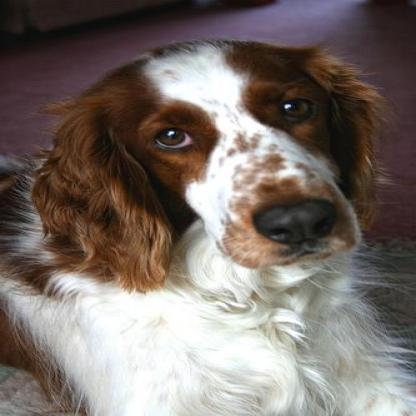Welsh_springer_spaniel: (0, 34, 412, 413)
